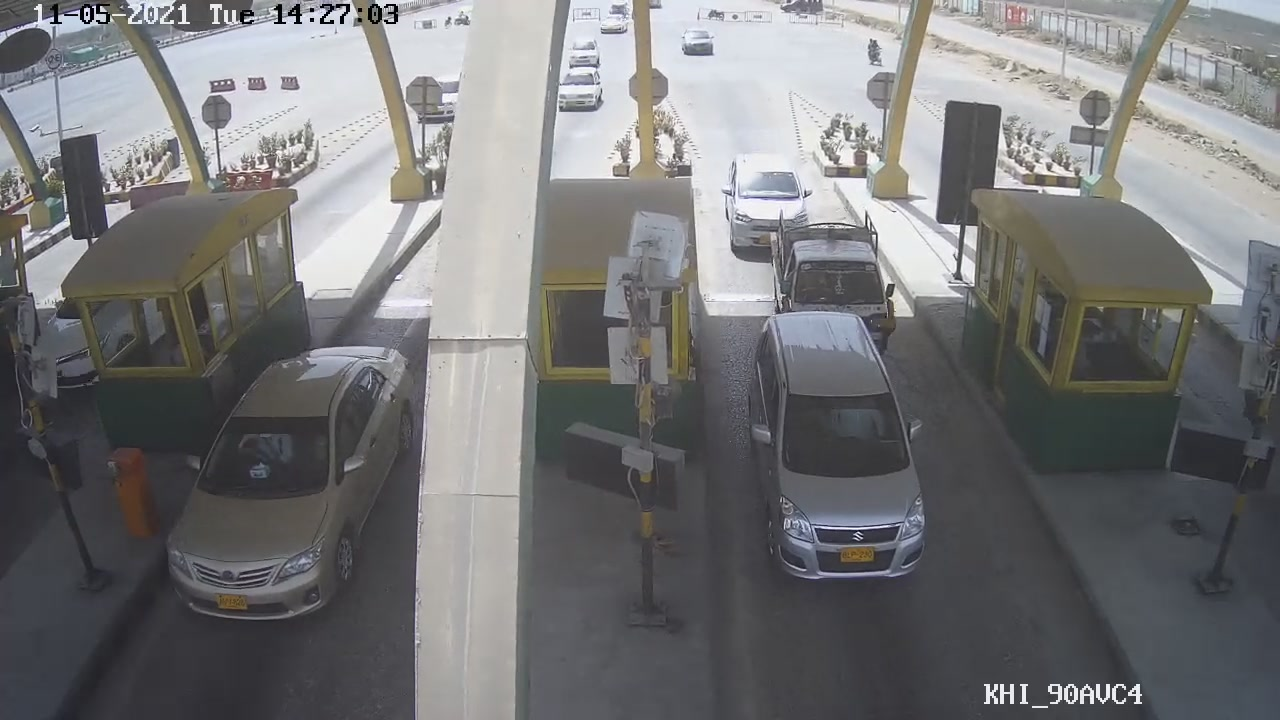F1: (732, 303, 940, 598)
